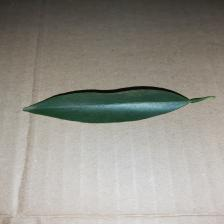healthy: (25, 95, 196, 123)
